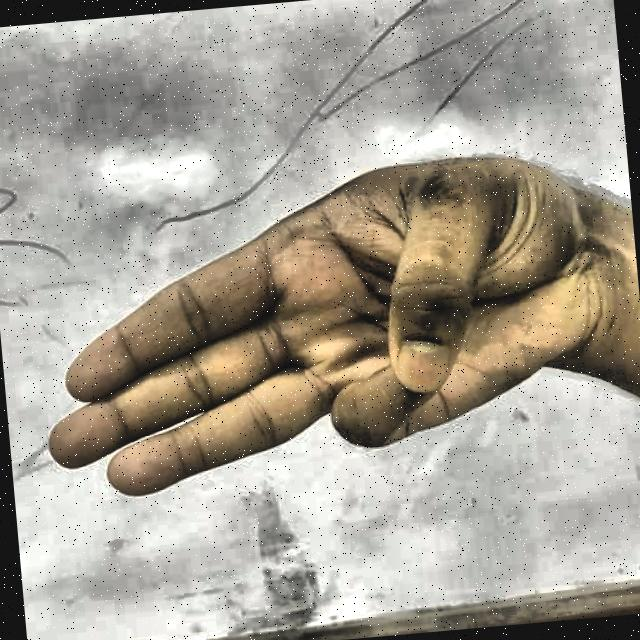Ma: (16, 132, 616, 550)
